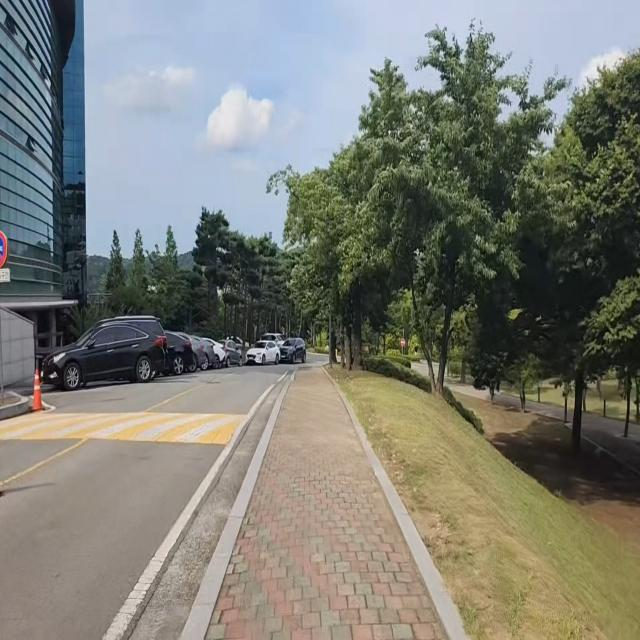obstacle: (38, 309, 174, 396), (0, 224, 12, 403), (27, 365, 46, 411)
road: (0, 362, 293, 640)
sidewalk: (0, 381, 23, 411)
